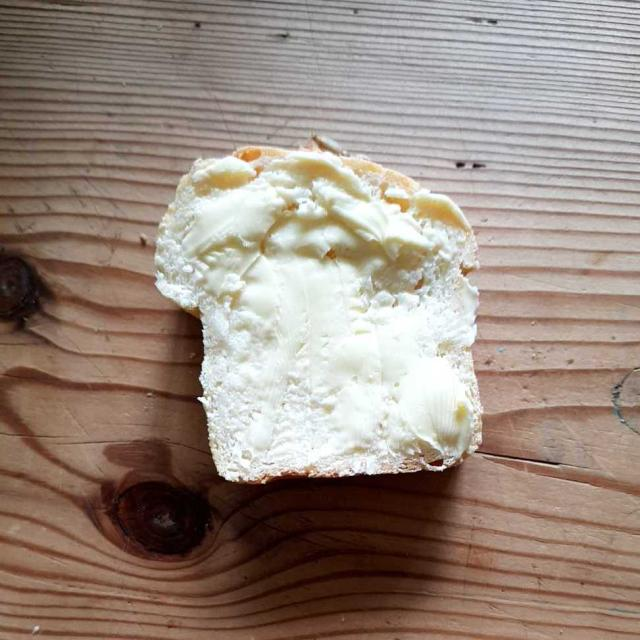thucan: (155, 139, 482, 483)
